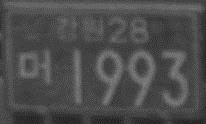1: (62, 47, 89, 104)
2: (107, 15, 128, 42)
3: (160, 48, 189, 106)
8: (130, 16, 150, 43)
9: (93, 49, 124, 104), (128, 49, 156, 107)
강원_O: (55, 14, 103, 41)
머: (18, 47, 51, 84)
